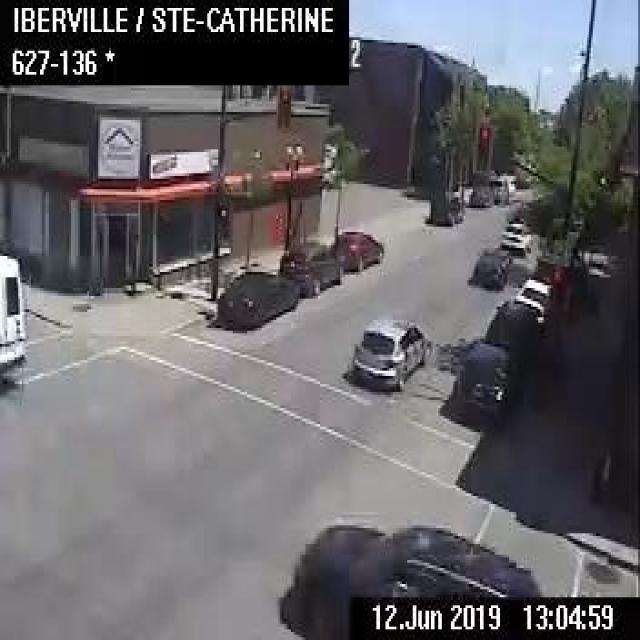bus: (0, 251, 29, 381)
vehicle: (276, 523, 538, 637), (449, 336, 517, 427), (351, 314, 431, 390), (215, 266, 299, 328), (278, 238, 344, 296), (483, 298, 537, 363), (330, 229, 383, 271), (512, 276, 550, 326), (467, 248, 510, 288), (428, 192, 464, 223), (499, 221, 531, 252), (534, 254, 557, 287), (486, 175, 508, 202), (469, 183, 492, 206)
